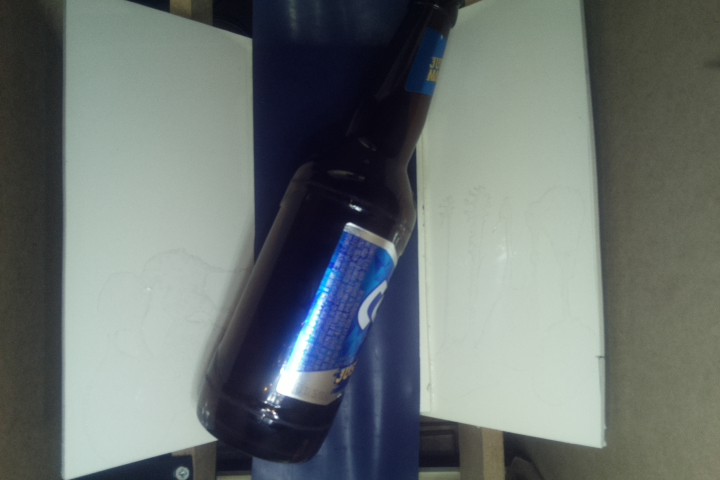makju: (193, 1, 466, 466)
